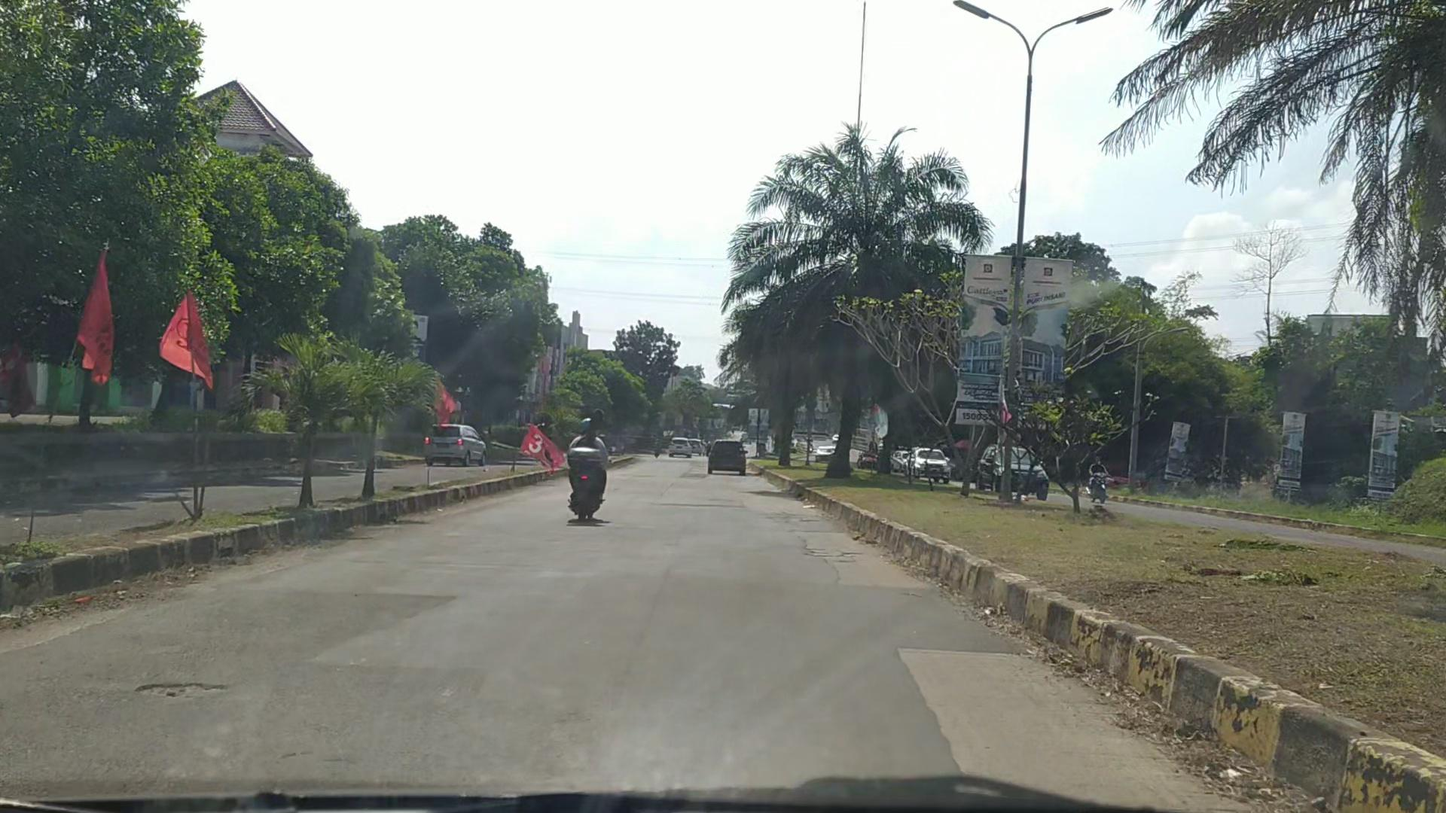pothole: (131, 683, 230, 701)
